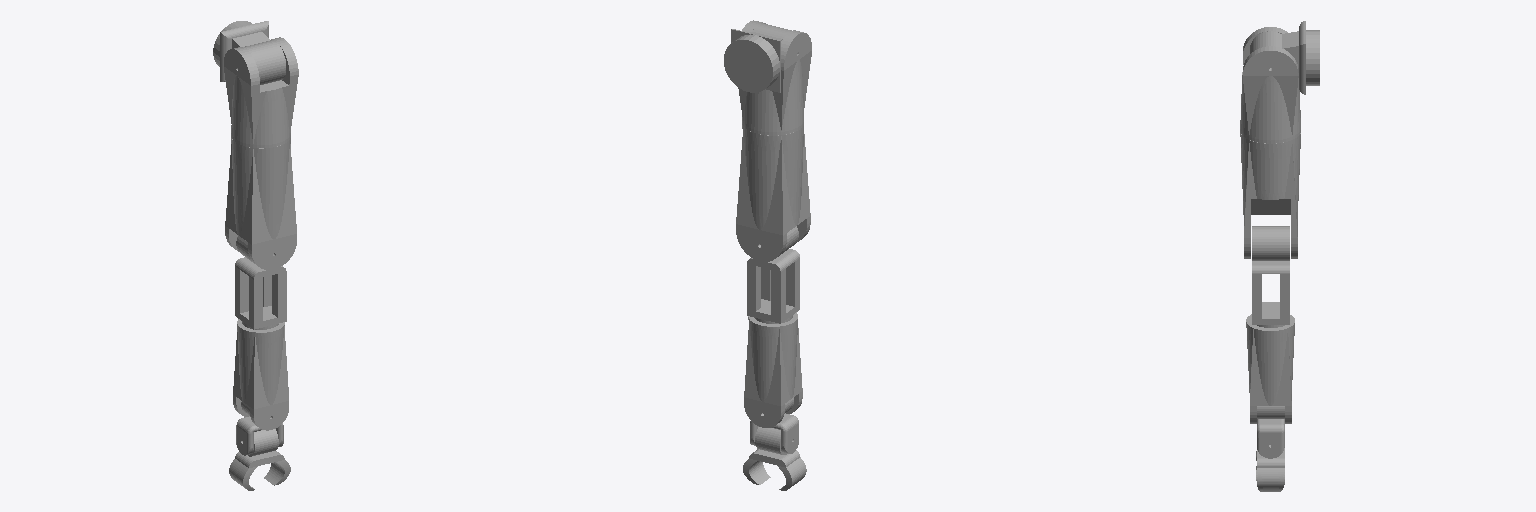
robot.urdf — brazo:
<?xml version="1.0"?>

<robot name="brazo">

  <!-- Color of materials -->
  <link name="base">
    <visual>
      <geometry>
        <cylinder length="0.02" radius="0.04"/>
      </geometry>
      <origin rpy="1.5708 0 0" xyz="0 0.01 0"/>
      <material name="LightGrey">
          <color rgba="0.7 0.7 0.7 1.0"/>
      </material>
    </visual>
  </link>

  <joint name="base_joint" type="revolute">
    <parent link="base"/>
    <child link="hombro"/>
    <origin rpy="1.5708 0 0" xyz="0 0 0"/>
    <axis xyz="0 0 1" />
    <limit effort="300" velocity="0.1" lower="-3.1" upper="3.1"/>
  </joint>

  <link name="hombro">
    <visual>
      <geometry>
        <mesh filename="package://proy/meshes/Hombro.stl" scale="0.01 0.01 0.01"/>
      </geometry>
      <origin rpy="0 0 0" xyz="-0.04 -0.04 0"/>
      <material name="LightGrey">
        <color rgba="0.7 0.7 0.7 1.0"/>
      </material>
    </visual>
  </link>

  <joint name="hombro_joint" type="revolute">
    <parent link="hombro"/>
    <child link="antebrazo1"/>
    <origin rpy="1.5708 0 -1.5708" xyz="0 0 0.05"/>
    <axis xyz="0 0 1" />
    <limit effort="300" velocity="0.1" lower="-0.2" upper="3.1"/>
  </joint>

  <link name="antebrazo1">
    <visual>
      <geometry>
        <mesh filename="package://proy/meshes/Antebrazo1.stl" scale="0.01 0.01 0.01"/>
      </geometry>
      <origin rpy="0 0 1.5708" xyz="0.01 0 0"/>
      <material name="LightGrey">
        <color rgba="0.7 0.7 0.7 1.0"/>
      </material>
    </visual>
  </link>

  <joint name="antebrazo_joint" type="revolute">
    <parent link="antebrazo1"/>
    <child link="antebrazo2"/>
    <origin rpy="1.5708 0 1.5708" xyz="0 0 0"/>
    <axis xyz="0 0 1" />
    <limit effort="300" velocity="0.1" lower="-0.85" upper="0.85"/>
  </joint>

  <link name="antebrazo2">
    <visual>
      <geometry>
        <mesh filename="package://proy/meshes/Antebrazo2.stl" scale="0.01 0.01 0.01"/>
      </geometry>
      <origin rpy="1.5708 3.1416 0" xyz="0 0 0.1152"/>
      <material name="LightGrey">
        <color rgba="0.7 0.7 0.7 1.0"/>
      </material>
    </visual>
  </link>

  <joint name="ante_brazo_joint" type="revolute">
    <parent link="antebrazo2"/>
    <child link="brazo1"/>
    <origin rpy="1.5708 0 1.5708" xyz="0 0 0.29"/>
    <axis xyz="0 0 1" />
    <limit effort="300" velocity="0.1" lower="-0.85" upper="2.2"/>
  </joint>

  <link name="brazo1">
    <visual>
      <geometry>
        <mesh filename="package://proy/meshes/Brazo1.stl" scale="0.01 0.01 0.01"/>
      </geometry>
      <origin rpy="1.5708 0 3.1416" xyz="0.028 0.028 -0.028"/>
      <material name="LightGrey">
        <color rgba="0.7 0.7 0.7 1.0"/>
      </material>
    </visual>
  </link>

  <joint name="brazo_joint" type="revolute">
    <parent link="brazo1"/>
    <child link="brazo2"/>
    <origin rpy="1.5708 0 3.1416" xyz="0 0 0"/>
    <axis xyz="0 0 1" />
    <limit effort="300" velocity="0.1" lower="-1.85" upper="1.85"/>
  </joint>

  <link name="brazo2">
    <visual>
      <geometry>
        <mesh filename="package://proy/meshes/Brazo2.stl" scale="0.01 0.01 0.01"/>
      </geometry>
      <origin rpy="-1.5708 0 0" xyz="0 0 0.124"/>
      <material name="LightGrey">
        <color rgba="0.7 0.7 0.7 1.0"/>
      </material>
    </visual>
  </link>

  <joint name="brazo_mano_joint" type="revolute">
    <parent link="brazo2"/>
    <child link="mano1"/>
    <origin rpy="1.5708 0 3.1416" xyz="0 0 0.26"/>
    <axis xyz="0 0 1" />
    <limit effort="300" velocity="0.1" lower="-0.85" upper="0.85"/>
  </joint>

  <link name="mano1">
    <visual>
      <geometry>
        <mesh filename="package://proy/meshes/Mano1.stl" scale="0.01 0.01 0.01"/>
      </geometry>
      <origin rpy="1.5708 0 0" xyz="-0.028 0.028 -0.02"/>
      <material name="LightGrey">
        <color rgba="0.7 0.7 0.7 1.0"/>
      </material>
    </visual>
  </link>

  <joint name="mano_joint" type="revolute">
    <parent link="mano1"/>
    <child link="mano2"/>
    <origin rpy="1.5708 0 1.5708" xyz="0 0.05 0"/>
    <axis xyz="0 0 1" />
    <limit effort="300" velocity="0.1" lower="-0.85" upper="0.85"/>
  </joint>

  <link name="mano2">
    <visual>
      <geometry>
        <mesh filename="package://proy/meshes/Mano2.stl" scale="0.01 0.01 0.01"/>
      </geometry>
      <origin rpy="0 1.5708 3.1416" xyz="0.032 0.02 0.032"/>
      <material name="LightGrey">
        <color rgba="0.7 0.7 0.7 1.0"/>
      </material>
    </visual>
  </link>

  <joint name="fixed_joint" type="fixed">
    <parent link="mano2"/>
    <child link="efector"/>
    <origin rpy="1.5708 0 1.5708" xyz="0.07 0 0"/>
  </joint>

  <link name="efector">
  </link>

</robot>

--- Facts derived from the render (not from the file) ---
The picture shows the robot from 3 angles, left to right: view 1: azimuth 30°, elevation 25°; view 2: azimuth 150°, elevation 25°; view 3: azimuth 270°, elevation 25°; orthographic projection.
Robot: brazo — 9 links, 8 joints (7 revolute, 1 fixed); root link base; default pose: every joint at zero.
Links seen in each view (by area): view 1: antebrazo2, antebrazo1, brazo2, brazo1, hombro, mano2, mano1; view 2: antebrazo2, brazo2, antebrazo1, brazo1, base, mano2, mano1, hombro; view 3: antebrazo1, antebrazo2, brazo2, brazo1, mano1, hombro, mano2, base.
Link boxes in pixels (x1,y1,x2,y2): antebrazo2: [225, 138, 296, 269]; antebrazo1: [224, 37, 298, 147]; brazo2: [233, 319, 288, 430]; brazo1: [235, 235, 286, 329]; hombro: [220, 21, 285, 84]; mano2: [229, 429, 290, 490]; mano1: [236, 401, 283, 455]; antebrazo2: [736, 124, 810, 261]; brazo2: [744, 312, 802, 427]; antebrazo1: [738, 20, 811, 135]; brazo1: [747, 226, 799, 323]; base: [724, 34, 779, 92]; mano2: [743, 427, 806, 490]; mano1: [750, 397, 798, 453]; hombro: [731, 23, 791, 92]; antebrazo1: [1240, 27, 1300, 143]; antebrazo2: [1240, 133, 1300, 258]; brazo2: [1246, 314, 1294, 423]; brazo1: [1252, 226, 1289, 327]; mano1: [1257, 406, 1284, 458]; hombro: [1250, 21, 1305, 94]; mano2: [1256, 444, 1284, 491]; base: [1306, 30, 1319, 85].
Bounding box of the posed robot: 0.087 × 0.1135 × 0.712 m (x, y, z).
Meshes: 7 distinct files referenced, 7 mesh visuals loaded (7 binary STL).